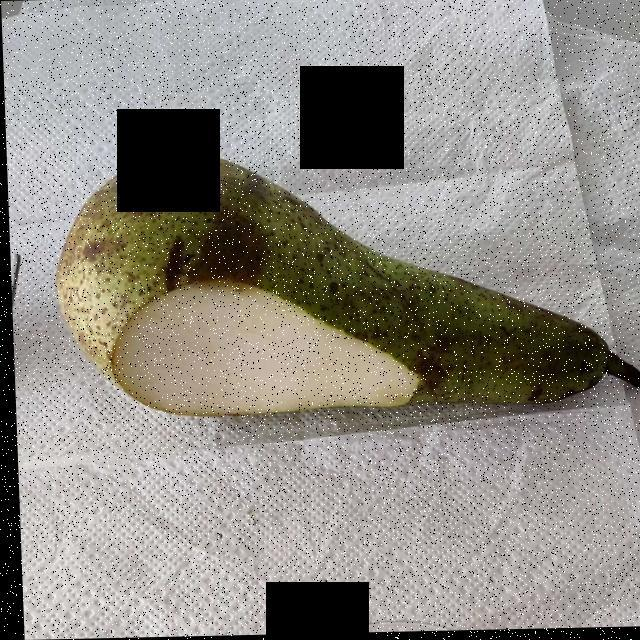pear: (49, 159, 594, 415)
